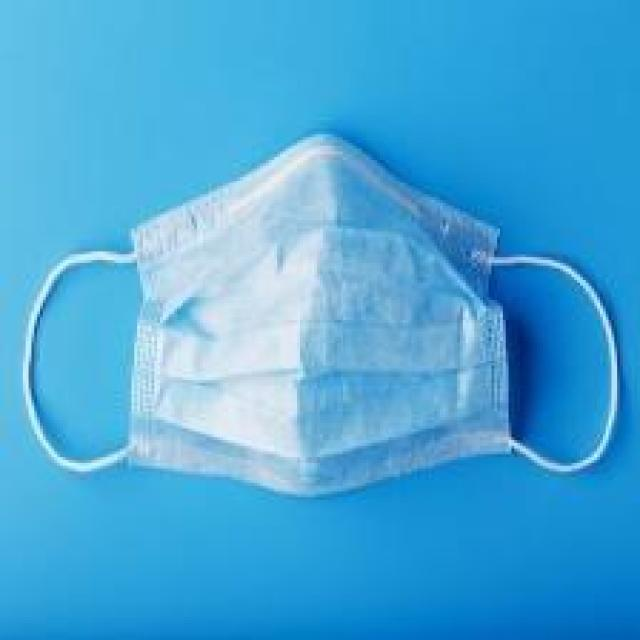Mask: (17, 158, 640, 546)
